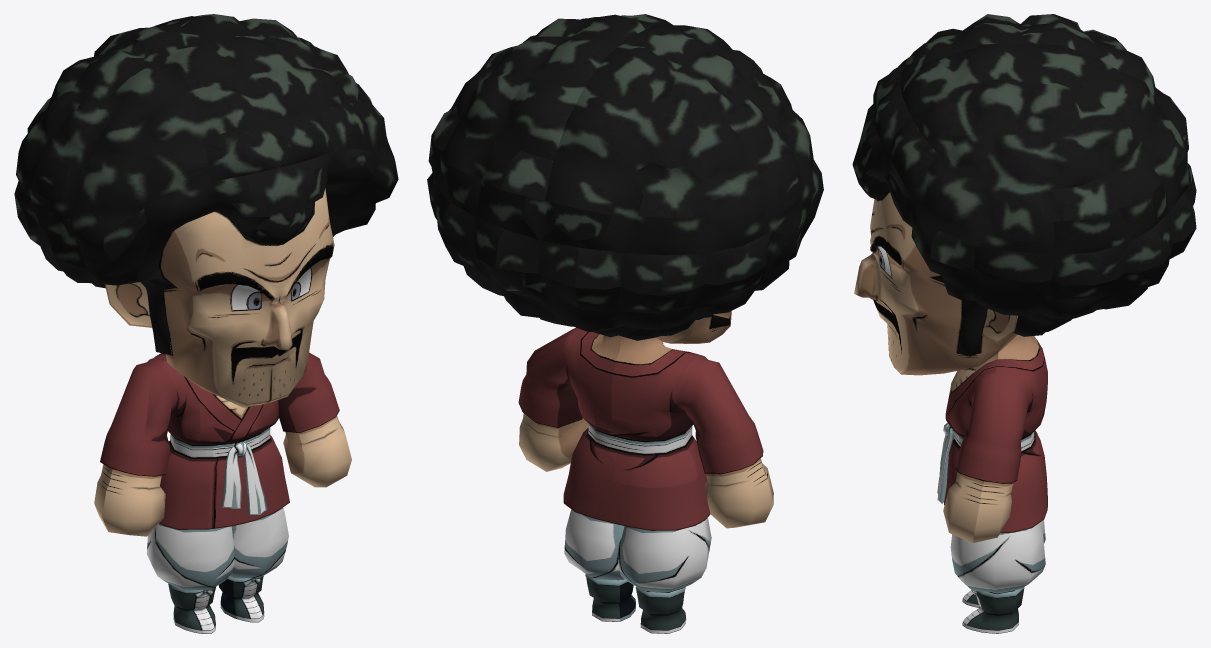
File: jinx-highres-lod0.glb
3 views of the same model, side by side, from view 1: azimuth 30°, elevation 25°; view 2: azimuth 150°, elevation 25°; view 3: azimuth 270°, elevation 25° (orthographic). The views are drawn at different scales.
Visible parts, largest first — view 1: MSN_avt; view 2: MSN_avt; view 3: MSN_avt.
Part boxes in pixels (box(x1,y1,x2,y2)): MSN_avt: box(14, 14, 398, 633); MSN_avt: box(427, 14, 823, 633); MSN_avt: box(852, 14, 1196, 633).
Size of the model in its own units: 2.79 by 4.65 by 2.53.
Materials: 1 (1 with a texture image).
